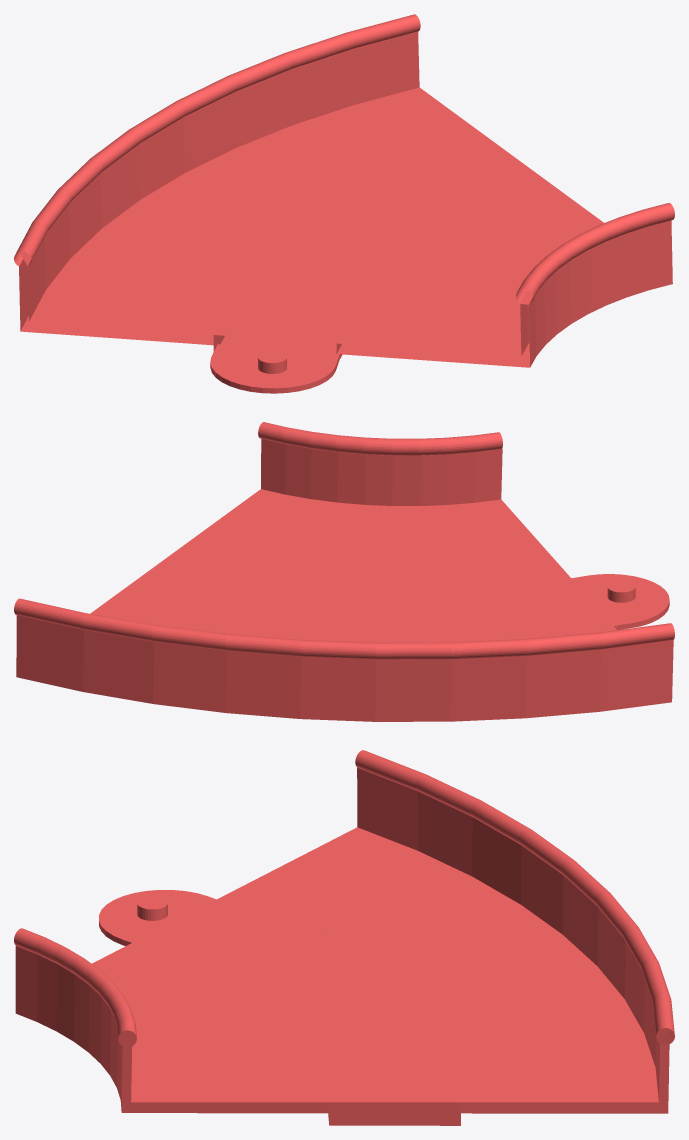
File: trackpiece-curve-45.glb
The picture shows the model from 3 angles, top to bottom: view 1: azimuth 30°, elevation 25°; view 2: azimuth 150°, elevation 25°; view 3: azimuth 270°, elevation 25°; orthographic projection. The views are drawn at different scales.
Visible parts, largest first — view 1: Track piece/short, Track piece/short.001; view 2: Track piece/short, Track piece/short.001; view 3: Track piece/short, Track piece/short.001.
Boxes of the visible parts, x1=… form: Track piece/short: x1=14, y1=14, x2=674, y2=367; Track piece/short.001: x1=210, y1=344, x2=340, y2=393; Track piece/short: x1=14, y1=422, x2=674, y2=721; Track piece/short.001: x1=571, y1=574, x2=669, y2=630; Track piece/short: x1=14, y1=750, x2=674, y2=1125; Track piece/short.001: x1=99, y1=890, x2=216, y2=946.
Bounding box in the file's own units: 9.95 × 1.61 × 9.9.
